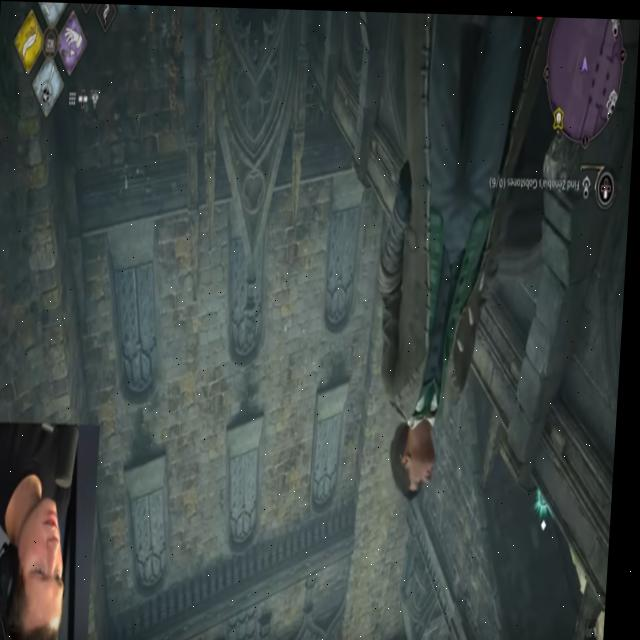compass: (584, 176, 590, 194)
